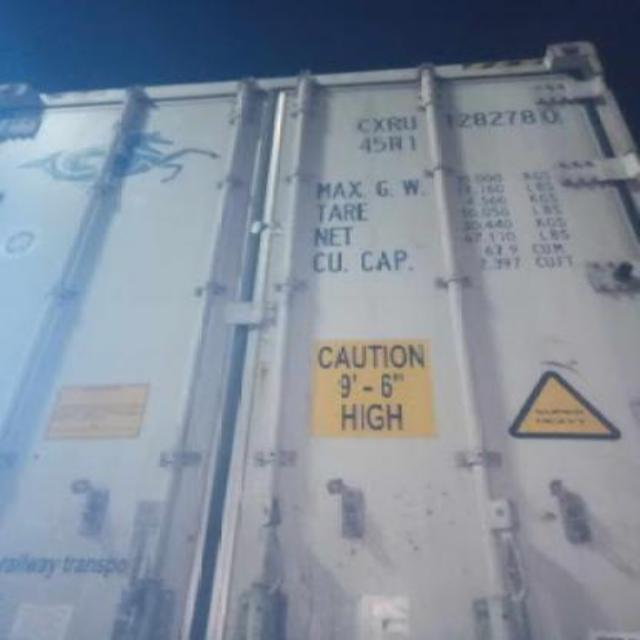0: (542, 108, 562, 126)
1: (444, 110, 458, 130)
2: (452, 108, 472, 128), (490, 110, 506, 126)
7: (504, 110, 520, 126)
8: (518, 108, 538, 126), (472, 111, 488, 127)
C: (356, 118, 372, 132)
R: (388, 116, 402, 132)
U: (400, 114, 420, 134)
X: (372, 116, 386, 130)
